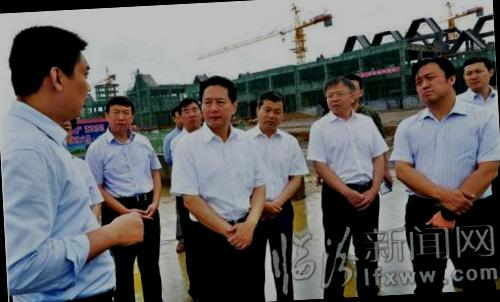no_helmet: (1, 19, 95, 127), (408, 52, 459, 108), (197, 72, 240, 132), (101, 92, 138, 136), (254, 87, 289, 132), (320, 76, 355, 117), (459, 53, 495, 92), (173, 94, 203, 132), (346, 72, 366, 105)
